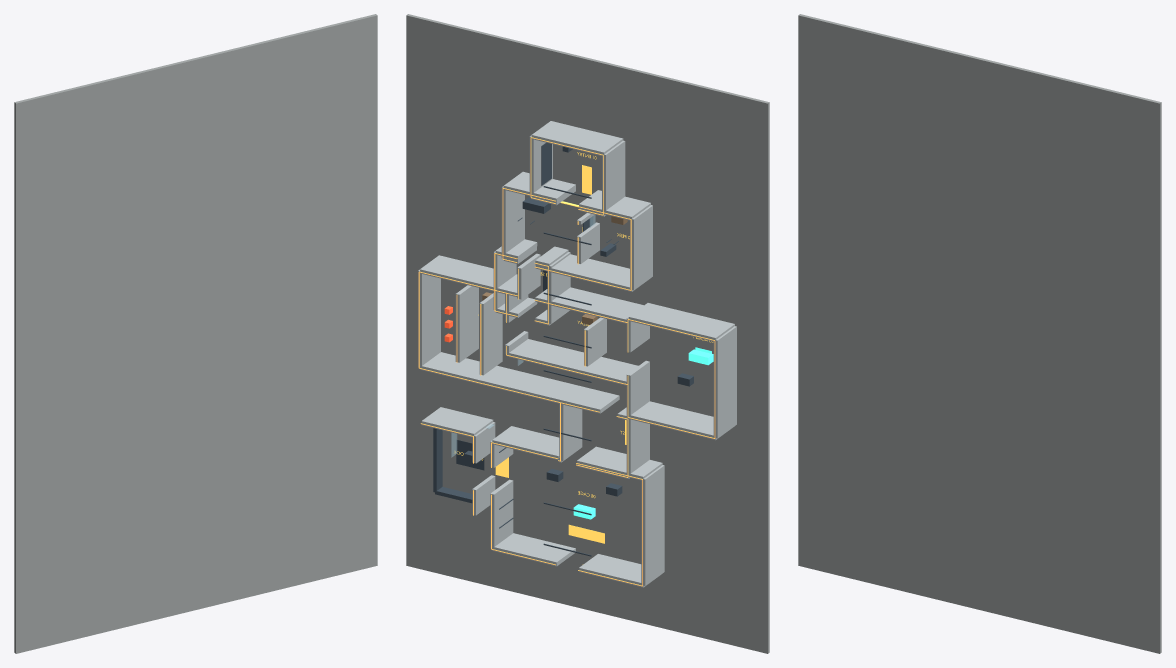
Rendered from b01_loading_dock_designed.glb.
3 views of the same model, side by side, from view 1: azimuth 30°, elevation 25°; view 2: azimuth 150°, elevation 25°; view 3: azimuth 330°, elevation 25° (orthographic).
Parts seen in each view (by area): view 1: B01_floor_runtime_footprint; view 2: B01_floor_runtime_footprint, drum_to_cage_e, cage_west_wall, relay_south, alarm_west, alarm_north, drum_east_bulkhead, relay_north_w, alarm_south, drum_north_wall, entry_back_bulkhead, intake_apron_w (+25 smaller); view 3: B01_floor_runtime_footprint.
Part boxes in pixels (x1,y1,x2,y2): B01_floor_runtime_footprint: (14, 14, 377, 653); B01_floor_runtime_footprint: (406, 14, 769, 653); drum_to_cage_e: (420, 352, 619, 413); cage_west_wall: (641, 465, 664, 585); relay_south: (507, 339, 638, 385); alarm_west: (713, 326, 736, 438); alarm_north: (628, 303, 734, 341); drum_east_bulkhead: (418, 269, 440, 367); relay_north_w: (535, 287, 643, 323); alarm_south: (628, 401, 734, 440); drum_north_wall: (420, 255, 517, 293); entry_back_bulkhead: (531, 121, 623, 156); intake_apron_w: (535, 254, 644, 291); B01_floor_runtime_footprint: (798, 14, 1161, 653).
Bounding box in the file's own units: 44 × 64 × 4.62.
